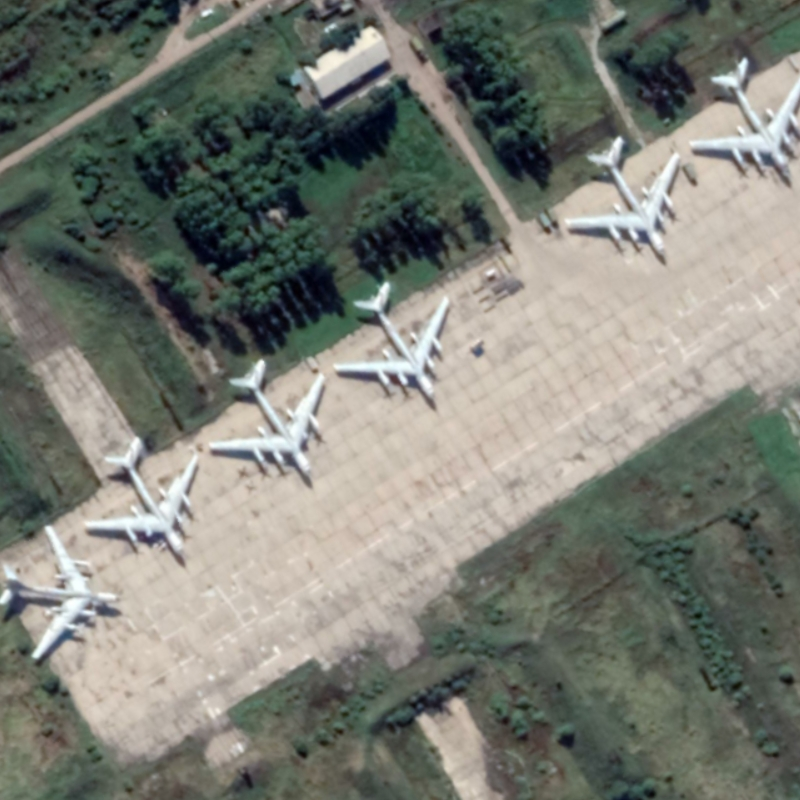A17: (1, 523, 123, 662), (80, 434, 202, 560), (561, 134, 683, 260), (205, 356, 328, 480), (330, 279, 451, 403), (684, 53, 800, 181)
